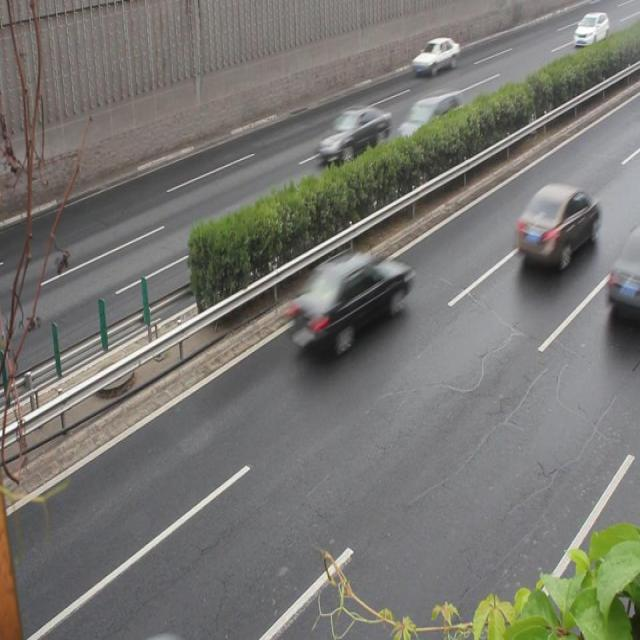car: (290, 254, 410, 355), (514, 179, 597, 270), (317, 105, 388, 168), (398, 94, 465, 155)
